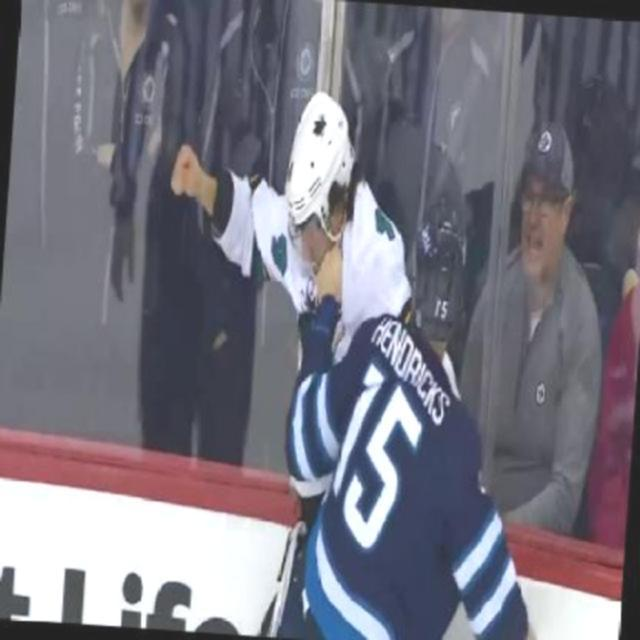fight: (140, 79, 509, 638)
